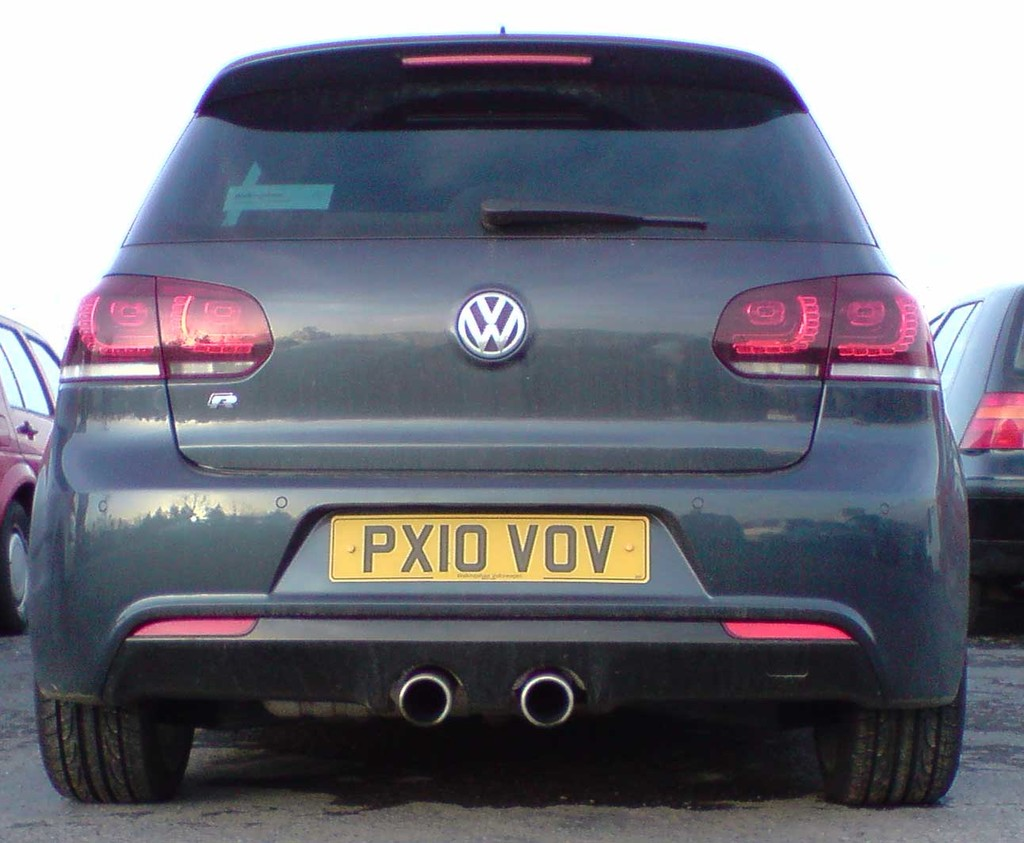license plate: (328, 519, 646, 589)
